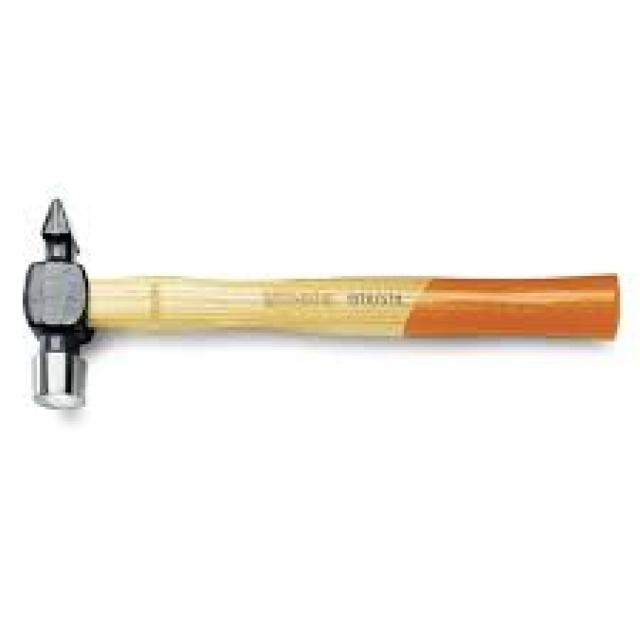Palu: (18, 199, 624, 409)
